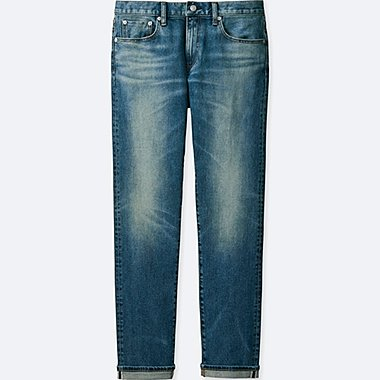jeans: (100, 1, 275, 371)
